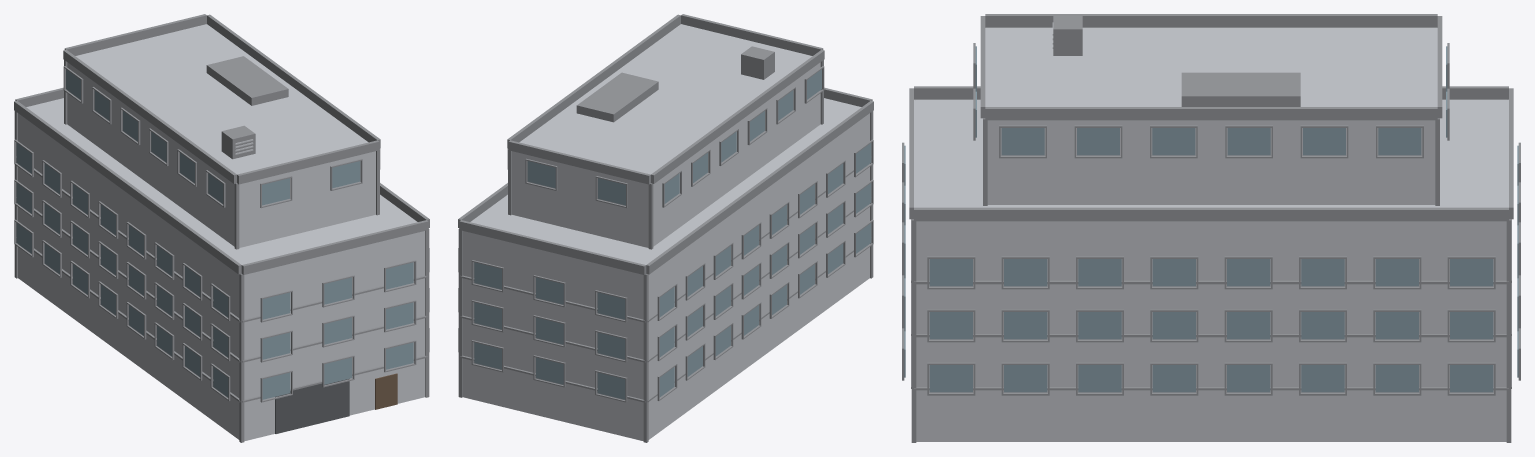
Rendered from lot_2x4.glb.
3 renders of one model, left to right at view 1: azimuth 30°, elevation 25°; view 2: azimuth 150°, elevation 25°; view 3: azimuth 270°, elevation 25°, orthographic. The views are drawn at different scales.
Parts seen in each view (by area): view 1: lot_2x4; view 2: lot_2x4; view 3: lot_2x4.
Boxes of the visible parts, box(x1,y1,x2,y2) form: lot_2x4: box(14, 14, 429, 442); lot_2x4: box(458, 14, 873, 442); lot_2x4: box(902, 14, 1520, 442).
Bounding box in the file's own units: 15.74 × 19 × 31.74.
